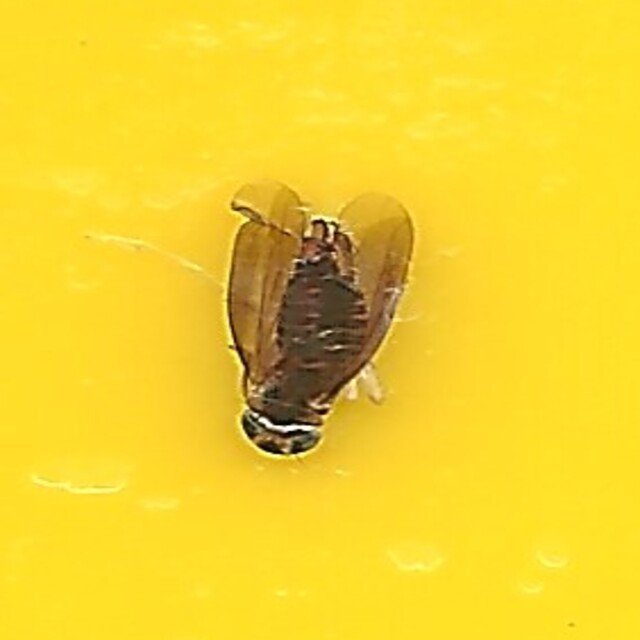Hemiptera: (227, 179, 413, 461)
